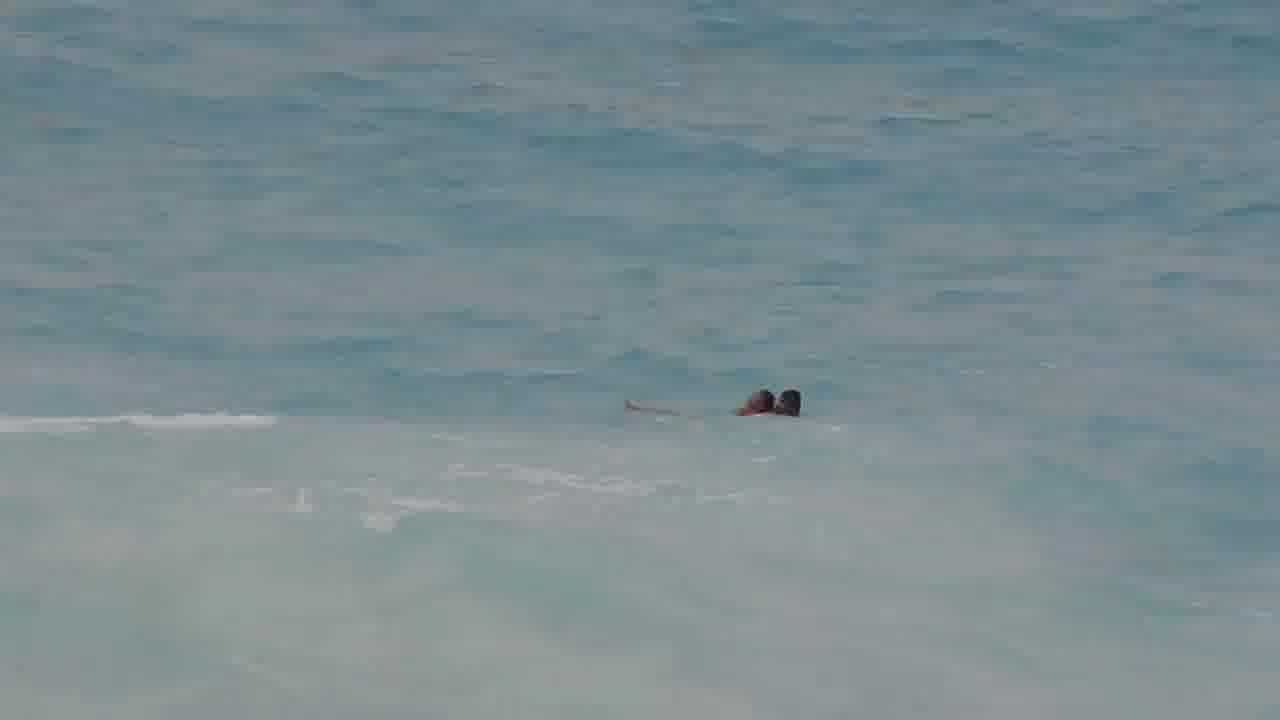swimmer: (782, 363, 817, 431), (746, 371, 762, 414)
